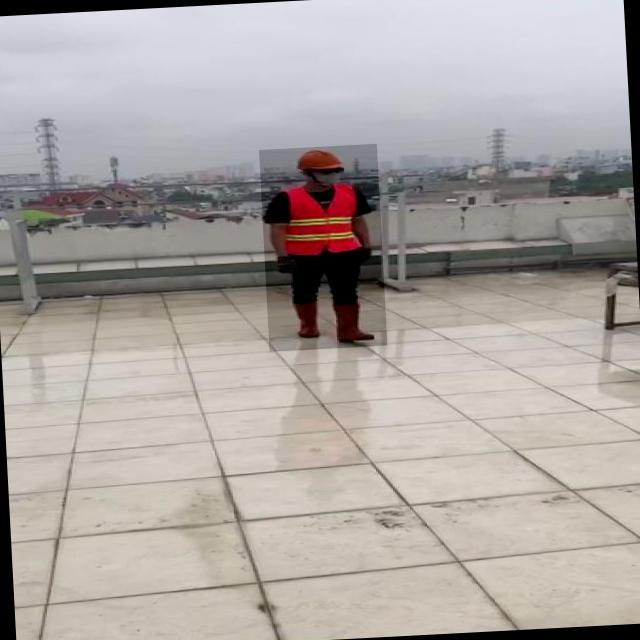Gloves: (277, 256, 300, 275), (359, 248, 374, 267)
Helmet: (292, 149, 347, 172)
Human: (259, 144, 388, 352)
Safety Boot: (331, 301, 375, 343), (291, 299, 323, 338)
Safety Vest: (285, 184, 361, 256)
